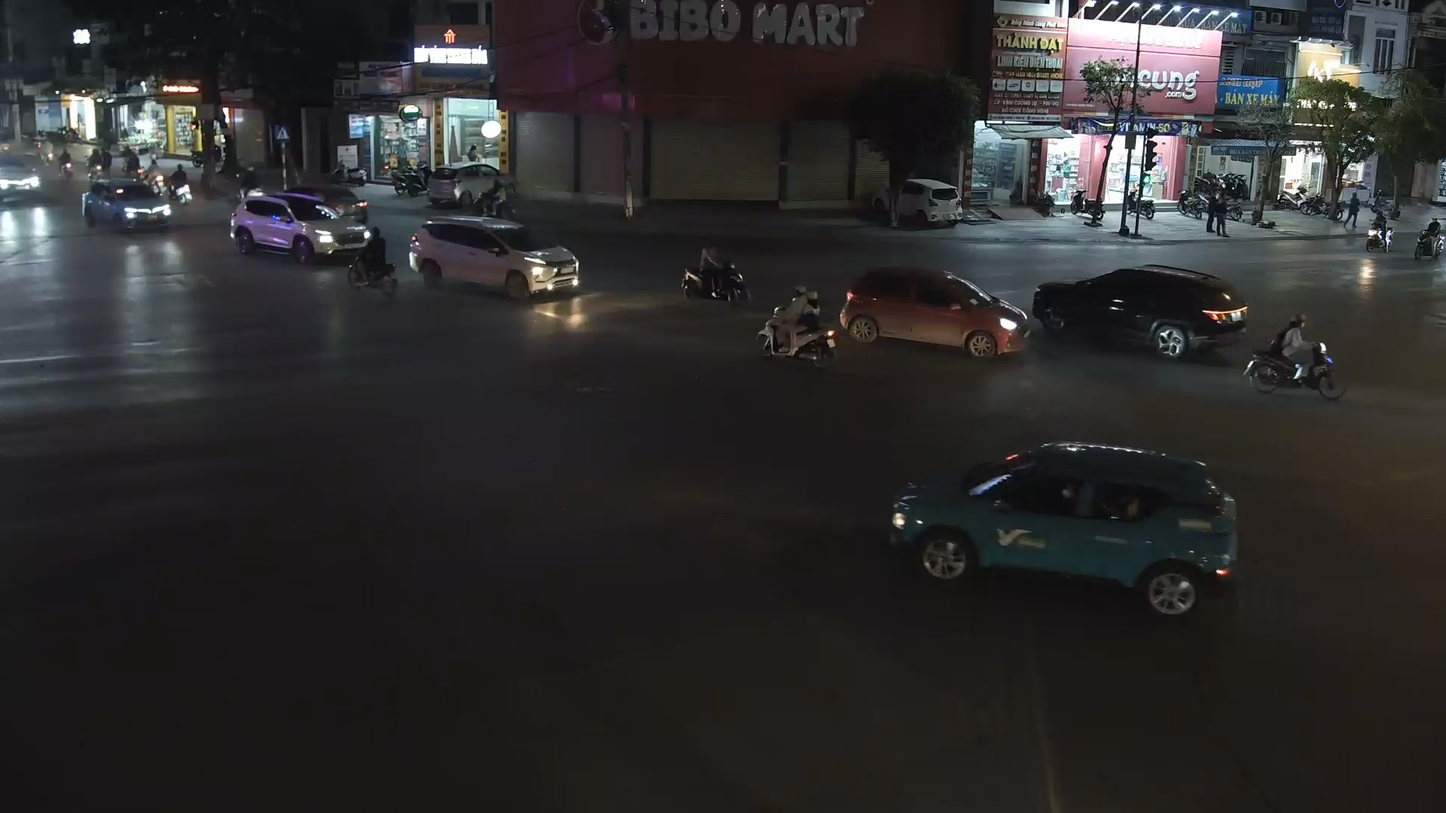car: (889, 440, 1243, 619), (1028, 263, 1250, 361), (838, 265, 1035, 359), (406, 213, 581, 299), (229, 187, 325, 265), (81, 176, 174, 236), (0, 149, 45, 208)
motorbike: (1243, 312, 1347, 402), (756, 282, 840, 369), (679, 238, 752, 304), (346, 227, 401, 296)
